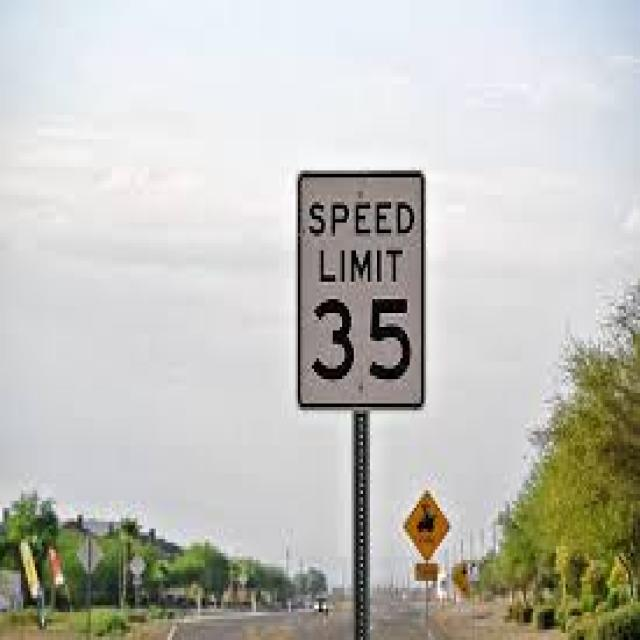speedLimit35: (294, 167, 428, 417)
